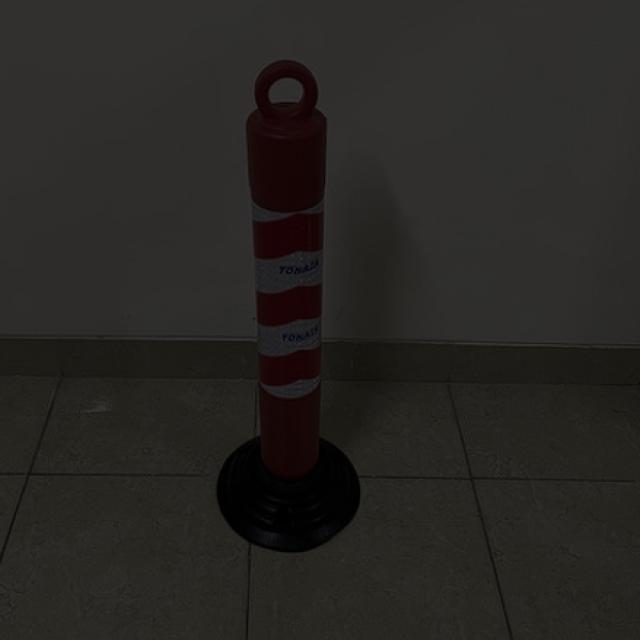obstacle: (234, 55, 340, 503)
